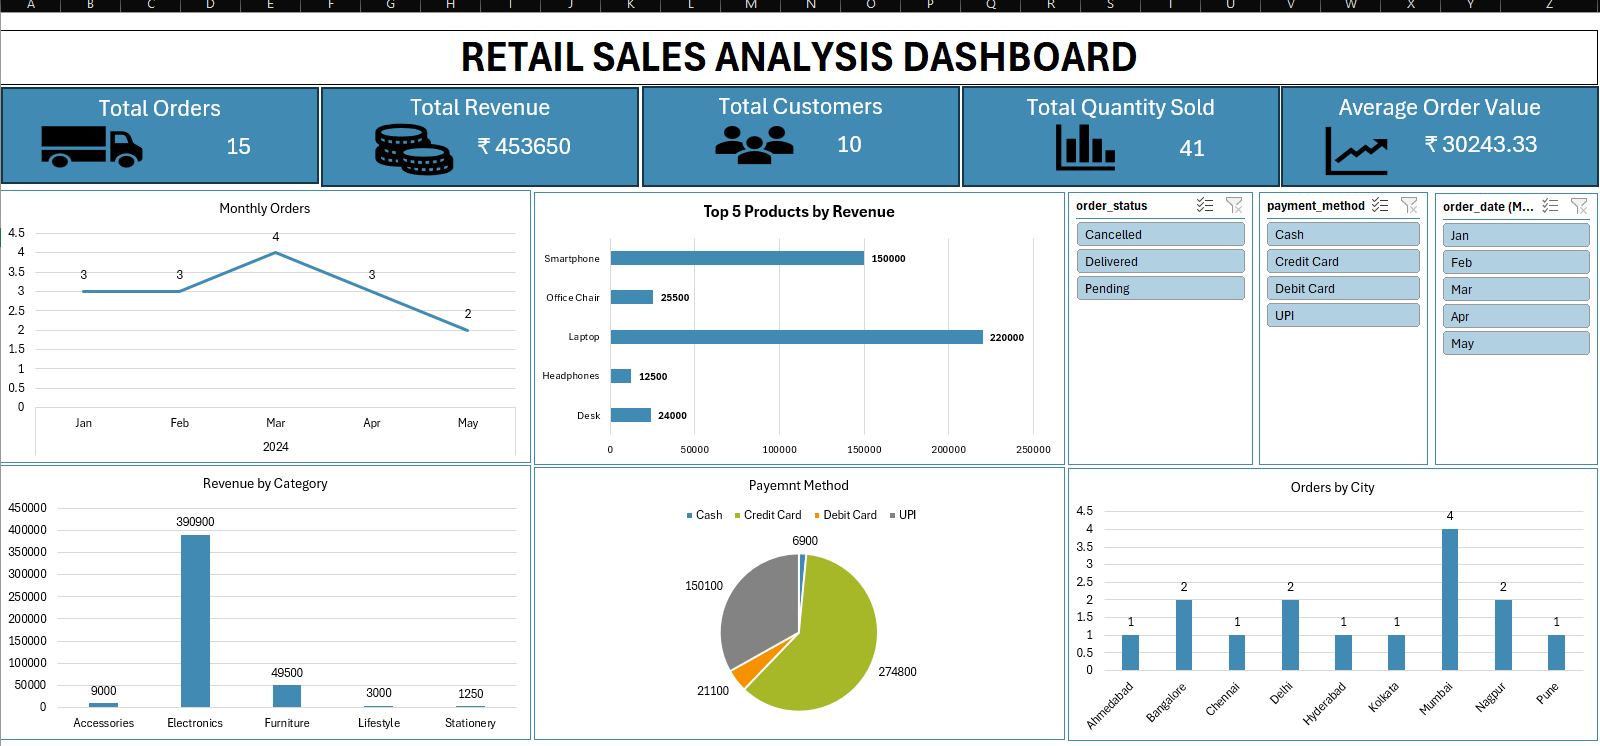

The page's visual inventory and layout, read from the dashboard file:
{"tool":"powerbi","page":{"name":"Dashboard","canvas":[1920,1080],"ordinal":0},"visuals":[{"type":"card","title":"Total Quantity Sold","fields":{"Values":["Sum(Order details.quantity)"]},"box":[1513.7,90.4,389.7,163.7],"z":0},{"type":"card","title":"Total Revenue","fields":{"Values":["Sum(Order details.Revenue)"]},"box":[10.9,92,389.7,162.1],"z":1000},{"type":"card","title":"Total Orders","fields":{"Values":["CountNonNull(Orders.order_id)"]},"box":[765.4,92,381.9,162.1],"z":2000},{"type":"card","title":"Total Customers","fields":{"Values":["CountNonNull(Customers.customer_id)"]},"box":[400.6,92,364.8,162.1],"z":3000},{"type":"card","title":"Average Order Value","fields":{"Values":["Order details.Average Order Value"]},"box":[1147.3,90.4,366.3,163.7],"z":4000},{"type":"lineChart","title":"Monthly Orders","fields":{"Category":["Orders.order_date.Variation.Date Hierarchy.Month"],"Y":["CountNonNull(Orders.order_id)"]},"box":[618.9,667.2,1287.7,413.1],"z":5000},{"type":"clusteredColumnChart","title":"Revenue by category","fields":{"Category":["Products.category"],"Y":["Sum(Order details.Revenue)"]},"box":[9.4,667.2,609.5,413.1],"z":6000},{"type":"clusteredBarChart","title":"Top 5 Products by Revenue","fields":{"Category":["Products.product_name"],"Y":["Sum(Order details.Revenue)"]},"box":[1147.3,254.1,523.8,413.1],"z":7000},{"type":"clusteredColumnChart","title":"Orders by city","fields":{"Category":["Customers.city"],"Y":["CountNonNull(Orders.order_id)"]},"box":[618.9,254.1,528.5,413.1],"z":8000},{"type":"pieChart","title":"Revenue by Payment Method","fields":{"Category":["Payments.payment_method"],"Y":["Sum(Payments.amount)"]},"box":[10.9,254.1,608,413.1],"z":9000},{"type":"slicer","title":"Order Status","fields":{"Values":["Orders.order_status"]},"box":[1671.1,254.1,235.4,194.9],"z":10000},{"type":"slicer","title":"Payment Method","fields":{"Values":["Payments.payment_method"]},"box":[1671.1,449,232.3,218.2],"z":11000},{"type":"textbox","title":"RETAIL SALES ANALYSIS DASHBOARD","box":[10.9,0,1892.5,90.4],"z":12000}]}

Visuals, with their boxes in screenshot pixels (x1, y1, x2, y2):
"Total Quantity Sold" card: region(1327, 70, 1592, 181)
"Total Revenue" card: region(303, 71, 569, 181)
"Total Orders" card: region(817, 71, 1077, 181)
"Total Customers" card: region(569, 71, 817, 181)
"Average Order Value" card: region(1077, 70, 1327, 181)
"Monthly Orders" lineChart: region(717, 463, 1594, 744)
"Revenue by category" clusteredColumnChart: region(302, 463, 717, 744)
"Top 5 Products by Revenue" clusteredBarChart: region(1077, 181, 1434, 463)
"Orders by city" clusteredColumnChart: region(717, 181, 1077, 463)
"Revenue by Payment Method" pieChart: region(303, 181, 717, 463)
"Order Status" slicer: region(1434, 181, 1594, 314)
"Payment Method" slicer: region(1434, 314, 1592, 463)
"RETAIL SALES ANALYSIS DASHBOARD" textbox: region(303, 8, 1592, 70)
